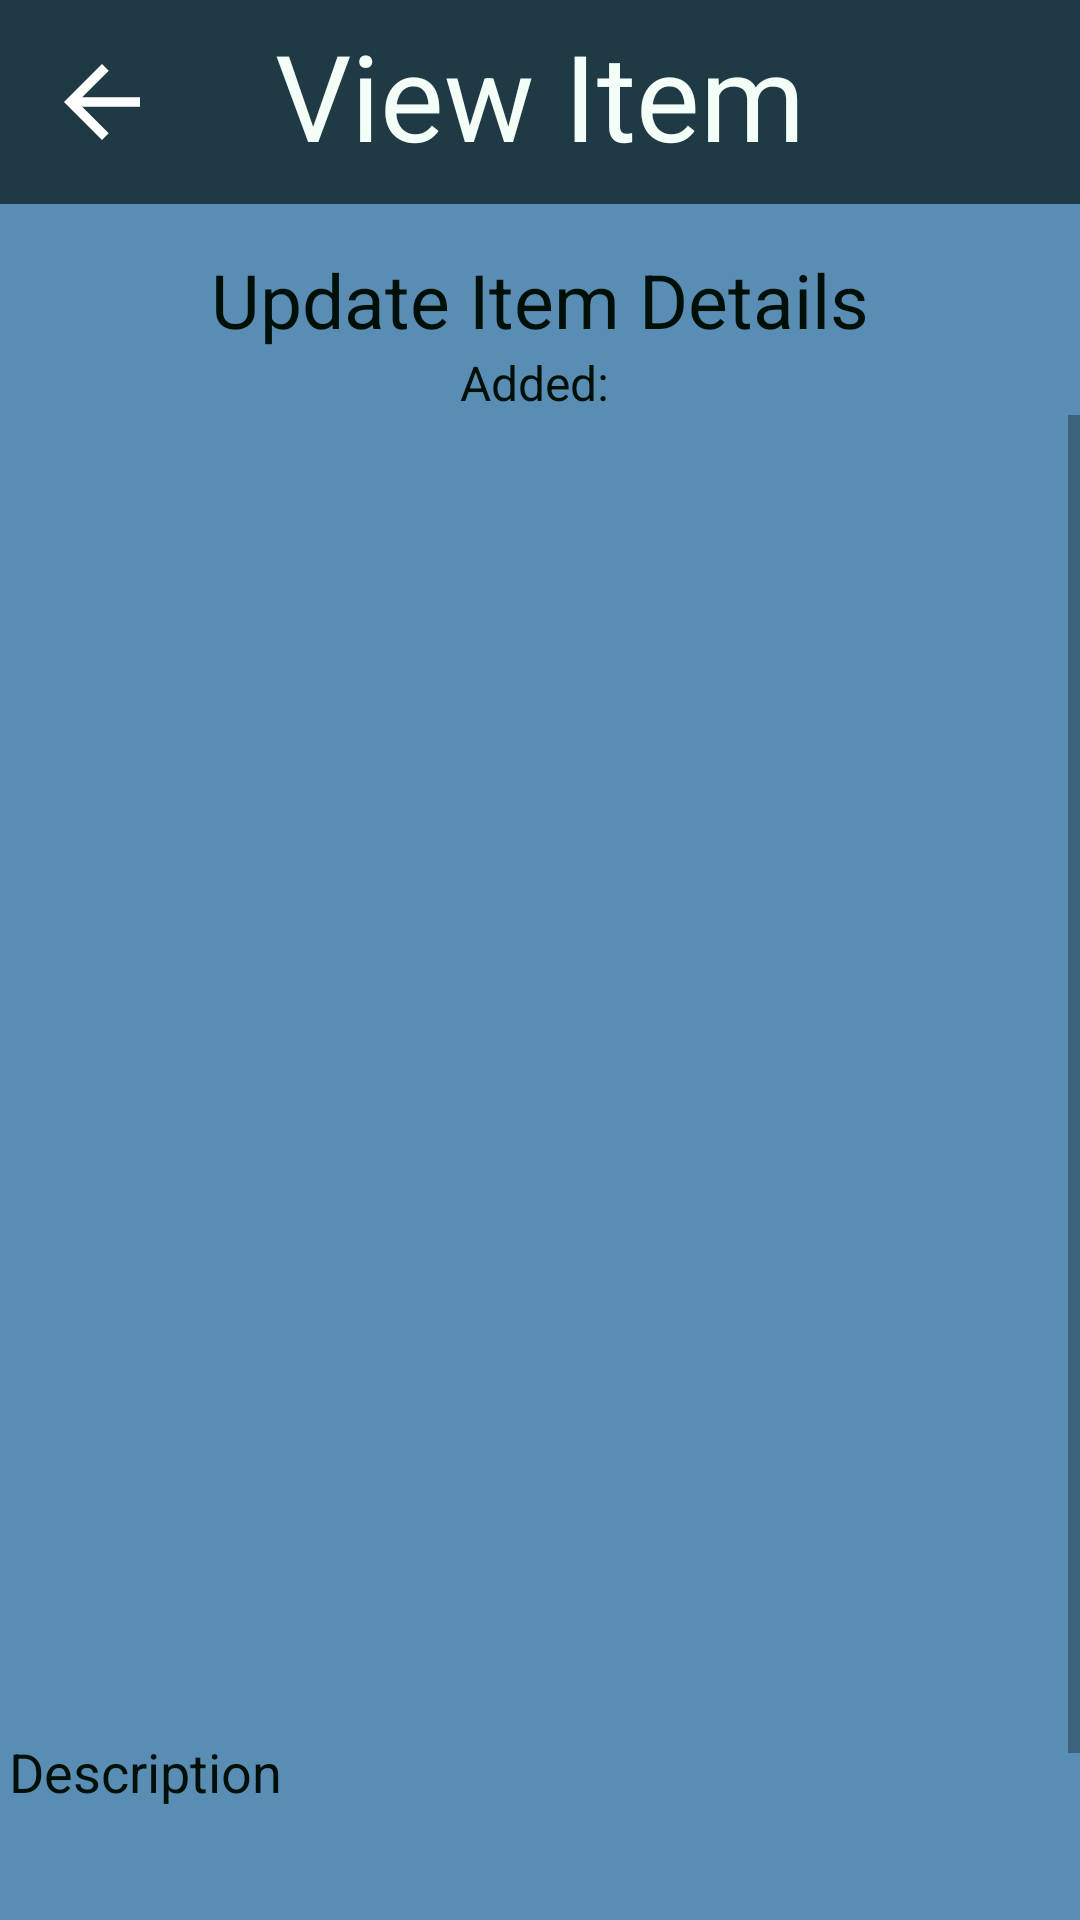

Where to tap for icons on this 1080×1920 app screen, as (x=x, y=y):
arrow: (x=102, y=102)
